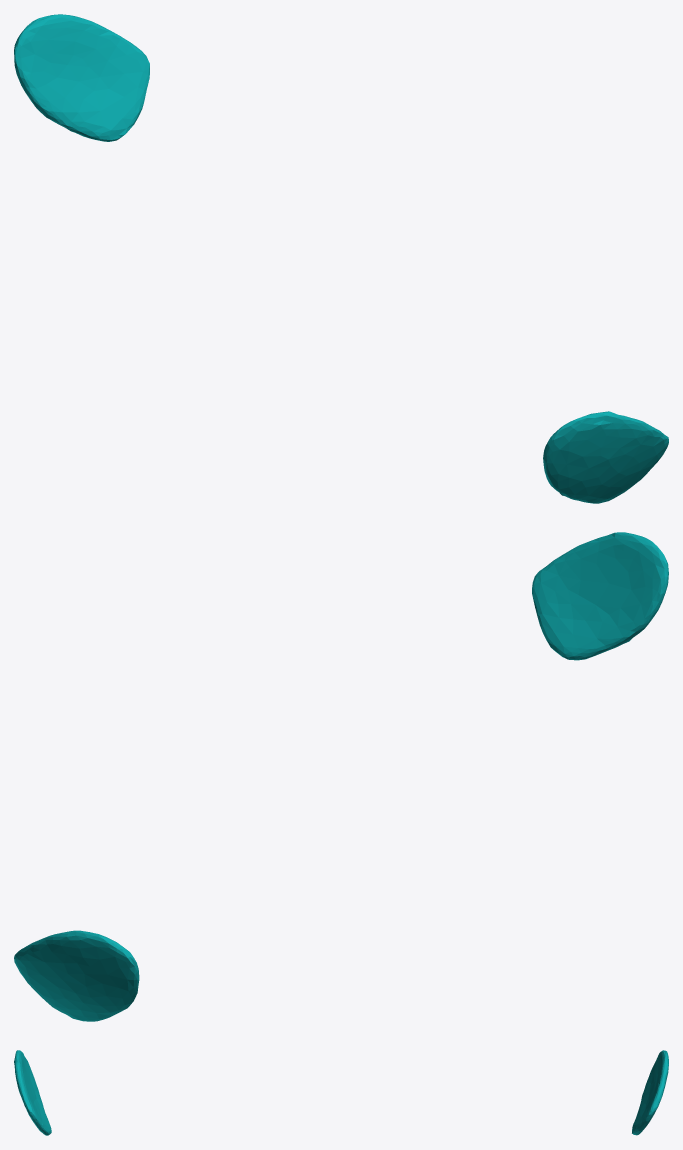
3 views of the same model, one above another, from view 1: azimuth 30°, elevation 25°; view 2: azimuth 150°, elevation 25°; view 3: azimuth 270°, elevation 25° (orthographic). The views are drawn at different scales.
Parts seen in each view (by area): view 1: 735.obj; view 2: 735.obj; view 3: 735.obj.
Part boxes in pixels (x1,y1,x2,y2): 735.obj: [14, 14, 668, 503]; 735.obj: [14, 532, 668, 1021]; 735.obj: [14, 1050, 668, 1135].
Bounding box in the file's own units: 1380 × 1185 × 10220.
